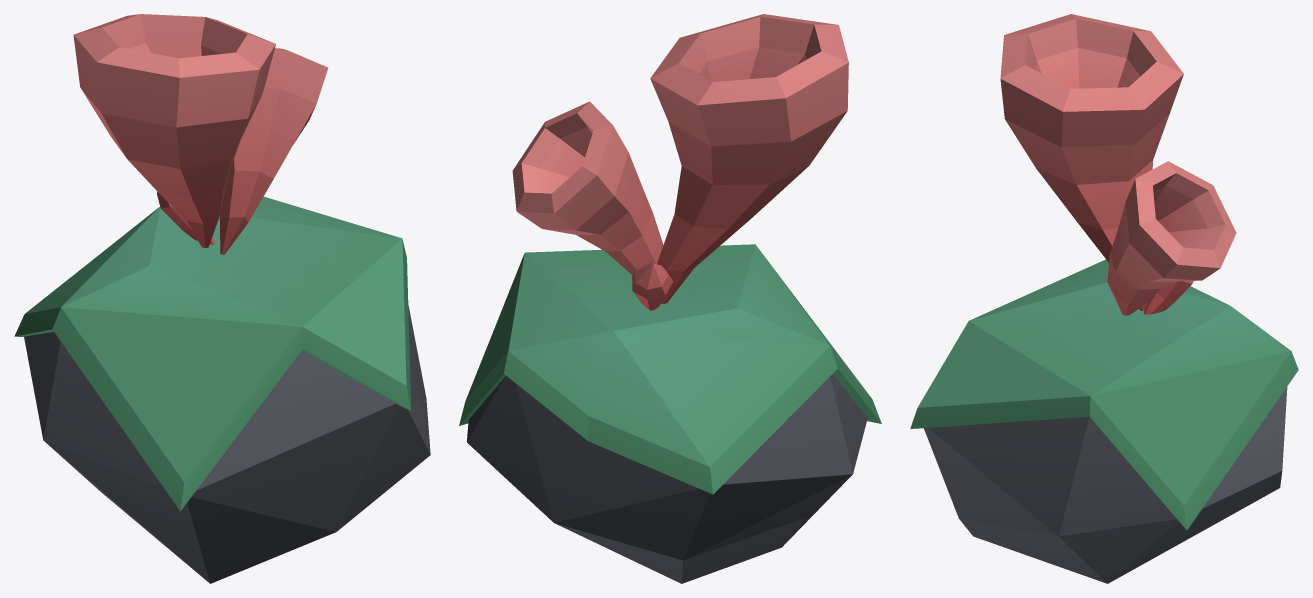
File: plant_03.FBX
3 renders of one model, left to right at view 1: azimuth 30°, elevation 25°; view 2: azimuth 150°, elevation 25°; view 3: azimuth 270°, elevation 25°, orthographic. The views are drawn at different scales.
Visible parts, largest first — view 1: plant_03; view 2: plant_03; view 3: plant_03.
Boxes of the visible parts, <box> form: plant_03: <box>14,14,430,583</box>; plant_03: <box>459,14,881,583</box>; plant_03: <box>910,14,1298,583</box>.
Size of the model in its own units: 2.58 by 3.8 by 2.63.
Materials: 2 (2 with a texture image).
